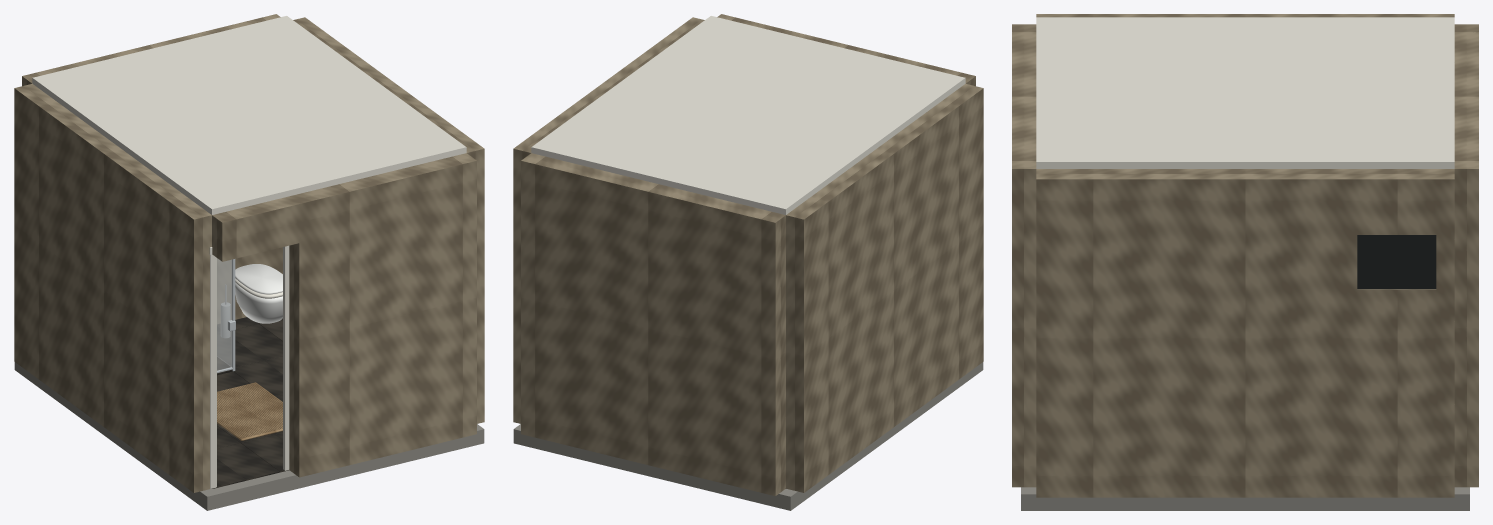
File: 14_Alternatif_3_1_1.glb
The picture shows the model from 3 angles, left to right: view 1: azimuth 30°, elevation 25°; view 2: azimuth 150°, elevation 25°; view 3: azimuth 270°, elevation 25°; orthographic projection. The views are drawn at different scales.
Visible parts, largest first — view 1: Ön duvar | sunum için gizli, Sol duvar, Tavan | plan görünümünde gizlenir, Zemin taşıyıcı, Sağ duvar / gerçek pencere boşluğu, Dokulu banyo paspası, Zemin seramik / derz 2mm.013, Zemin seramik / derz 2mm, Kabin menteşeli kapı, Kapı pervazı, Kapı pervazı.001, 103x20cm tam boy rezervuar çıkıntısı (+6 smaller); view 2: Arka duvar / gerçek niş boşlukları, Sol duvar, Tavan | plan görünümünde gizlenir, Zemin taşıyıcı, Sağ duvar / gerçek pencere boşluğu, Ön duvar | sunum için gizli; view 3: Sağ duvar / gerçek pencere boşluğu, Tavan | plan görünümünde gizlenir, Arka duvar / gerçek niş boşlukları, Ön duvar | sunum için gizli, Zemin taşıyıcı, Havalandırma karanlık iç boşluğu, Sol duvar.
Boxes of the visible parts, box(x1,y1,x2,y2) form: Ön duvar | sunum için gizli: box(212, 153, 476, 477); Sol duvar: box(14, 83, 211, 492); Tavan | plan görünümünde gizlenir: box(32, 16, 466, 214); Zemin taşıyıcı: box(14, 362, 484, 510); Sağ duvar / gerçek pencere boşluğu: box(293, 17, 484, 423); Dokulu banyo paspası: box(217, 382, 282, 440); Zemin seramik / derz 2mm.013: box(217, 324, 282, 367); Zemin seramik / derz 2mm: box(212, 443, 279, 488); Kabin menteşeli kapı: box(217, 258, 232, 370); Kapı pervazı: box(210, 252, 216, 488); Kapı pervazı.001: box(283, 245, 289, 470); 103x20cm tam boy rezervuar çıkıntısı: box(217, 247, 282, 323); Arka duvar / gerçek niş boşlukları: box(521, 153, 785, 496); Sol duvar: box(786, 83, 983, 492); Tavan | plan görünümünde gizlenir: box(531, 16, 965, 214); Zemin taşıyıcı: box(513, 362, 983, 510); Sağ duvar / gerçek pencere boşluğu: box(513, 17, 704, 423); Ön duvar | sunum için gizli: box(717, 14, 975, 86); Sağ duvar / gerçek pencere boşluğu: box(1036, 169, 1454, 497); Tavan | plan görünümünde gizlenir: box(1036, 17, 1454, 168); Arka duvar / gerçek niş boşlukları: box(1454, 24, 1478, 487); Ön duvar | sunum için gizli: box(1012, 24, 1036, 487); Zemin taşıyıcı: box(1021, 487, 1469, 510); Havalandırma karanlık iç boşluğu: box(1357, 235, 1436, 289); Sol duvar: box(1036, 14, 1454, 17).
Bounding box in the file's own units: 2.57 × 2.49 × 3.07.
Materials: 16 (5 with a texture image).
